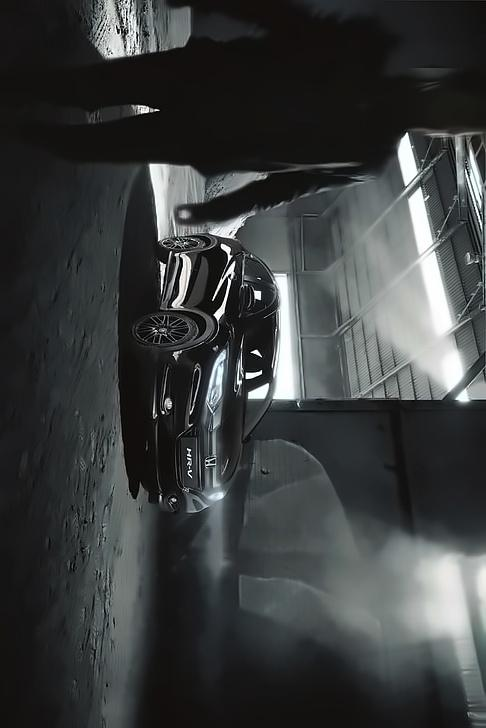Car hood: (216, 319, 247, 499)
Driver-s door - -F-R-: (168, 276, 281, 309)
Fender - -F-R-: (160, 306, 246, 351)
Fender - -R-R-: (191, 235, 243, 255)
Front bumper: (142, 344, 207, 519)
Headlight - -L-: (201, 485, 228, 507)
Headlight - -R-: (203, 346, 230, 417)
Passenger-s door - -R-R-: (173, 253, 280, 278)
Side bumper - -R-: (157, 246, 178, 314)
Side mirror - -R-: (235, 279, 259, 314)
